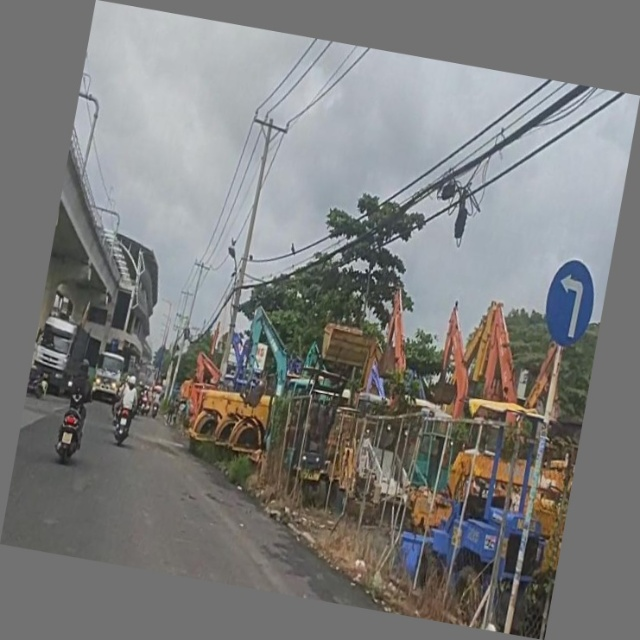R.301e: (539, 259, 601, 351)
